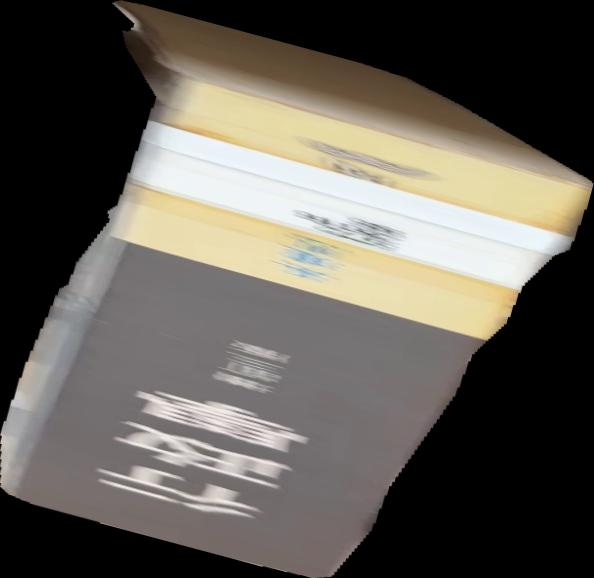reverse: (1, 1, 594, 578)
